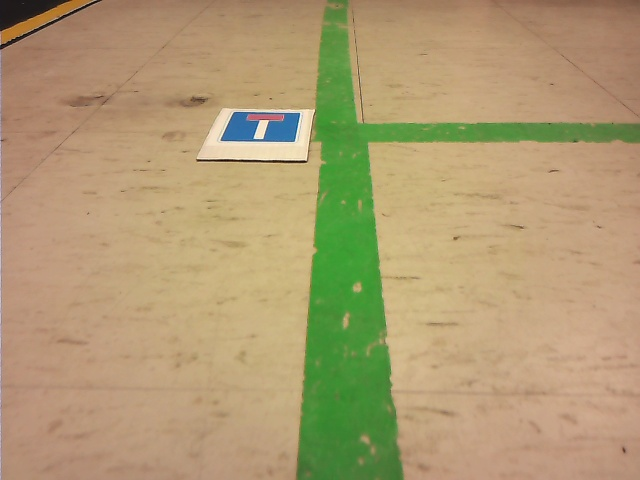DEAD END: (214, 111, 301, 142)
